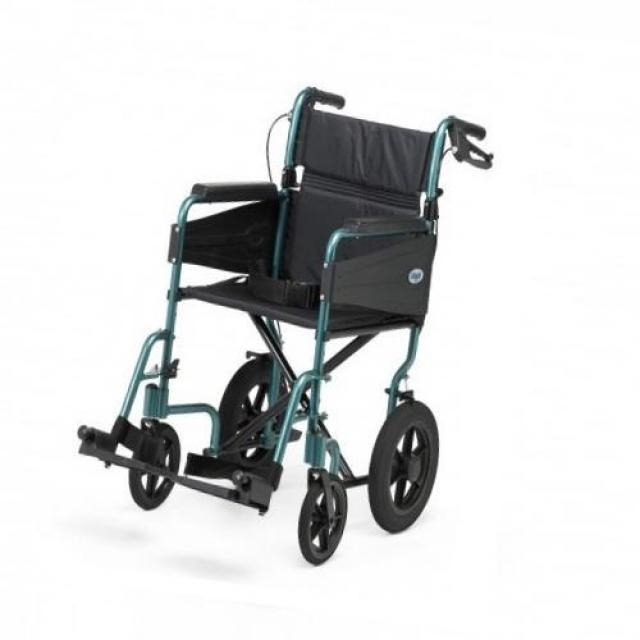wheelchair: (64, 73, 530, 572)
